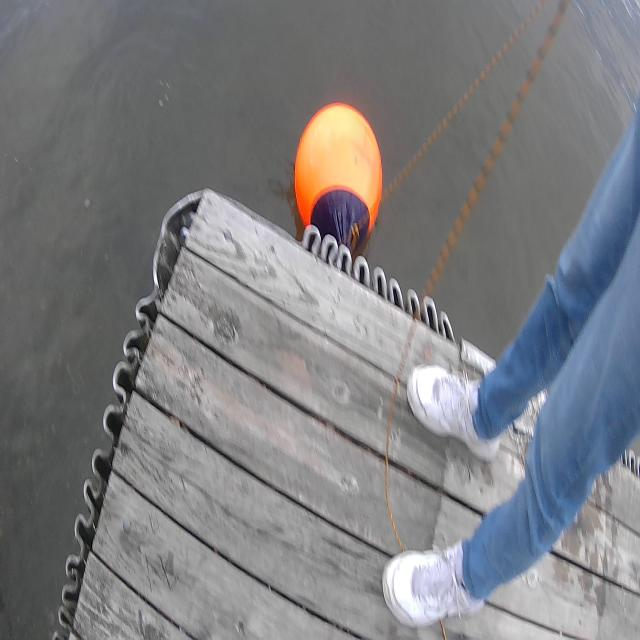Buoy: (290, 94, 390, 250)
